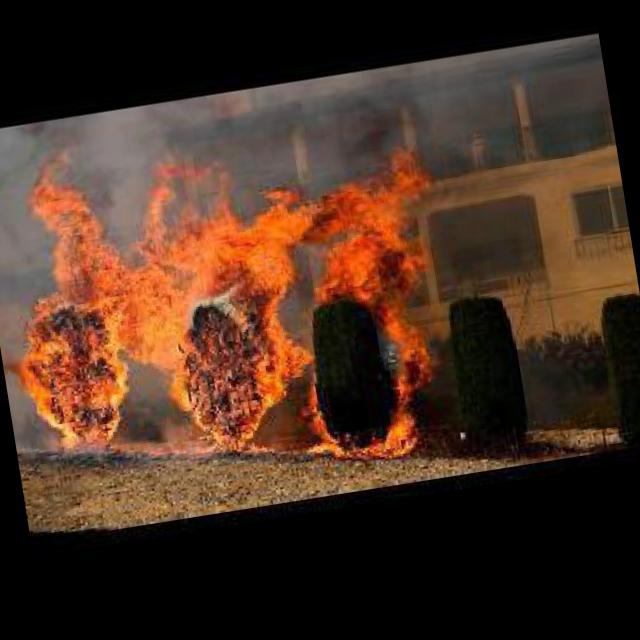fire: (0, 117, 457, 498)
